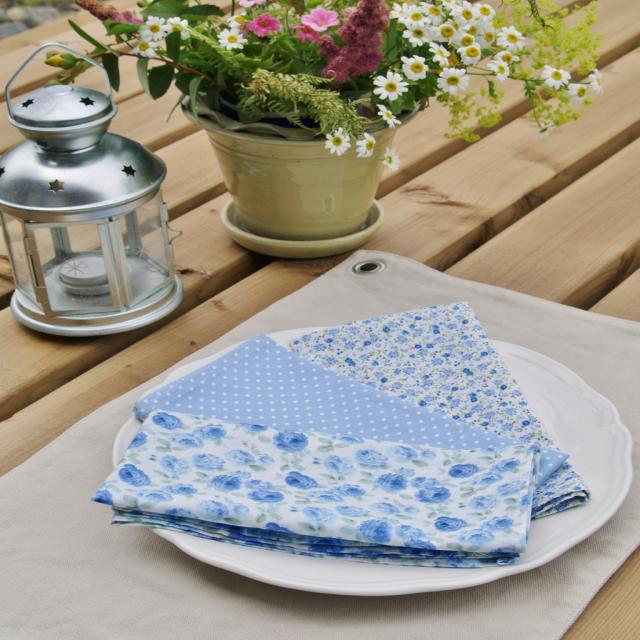non-organic waste: (112, 333, 633, 594)
